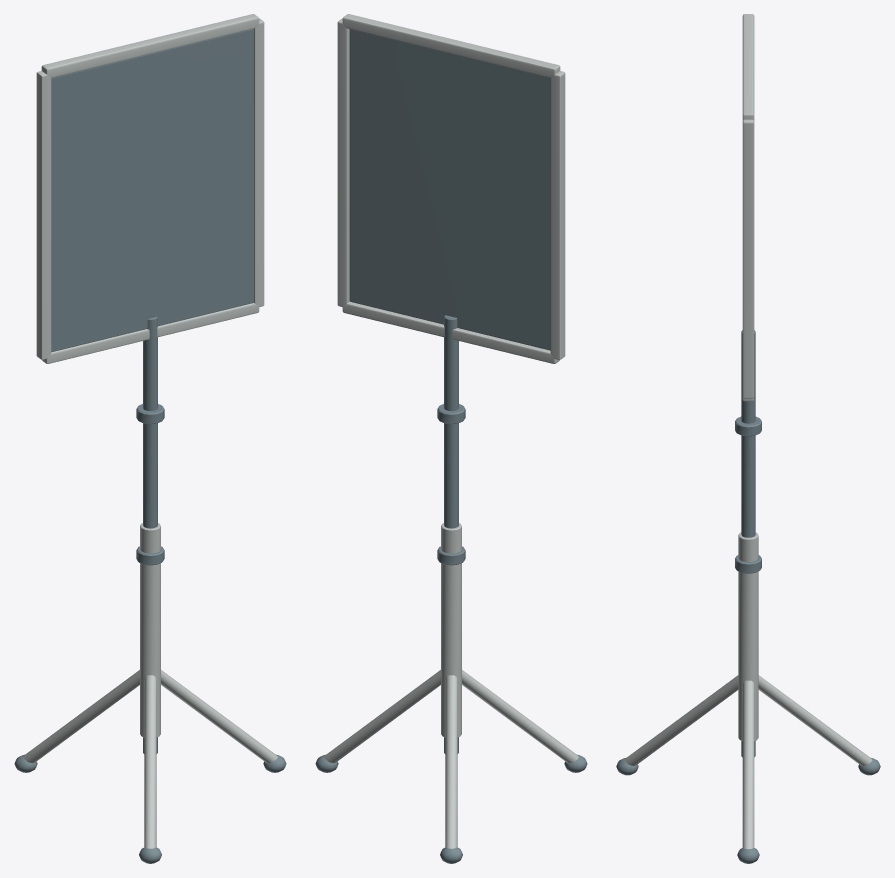
Rendered from flag-stand.glb.
3 renders of one model, left to right at view 1: azimuth 30°, elevation 25°; view 2: azimuth 150°, elevation 25°; view 3: azimuth 270°, elevation 25°, orthographic. The views are drawn at different scales.
Visible parts, largest first — view 1: light_cutting_fabric, flag_frame_side, lower_stand, flag_frame_rail.001, flag_frame_side.001, telescoping_stand, flag_frame_rail, tripod_leg_1, tripod_leg_0, tripod_leg_2; view 2: light_cutting_fabric, flag_frame_side, flag_frame_side.001, lower_stand, flag_frame_rail.001, telescoping_stand, flag_frame_rail, tripod_leg_2, tripod_leg_0, tripod_leg_1; view 3: flag_frame_side.001, lower_stand, telescoping_stand, tripod_leg_0, tripod_leg_1, tripod_leg_2, flag_frame_rail.001.
Part boxes in pixels (bbox=[...]): light_cutting_fabric: bbox=[51, 29, 253, 352]; flag_frame_side: bbox=[36, 71, 51, 359]; lower_stand: bbox=[140, 523, 160, 737]; flag_frame_rail.001: bbox=[41, 14, 259, 77]; flag_frame_side.001: bbox=[254, 18, 264, 306]; telescoping_stand: bbox=[143, 317, 157, 753]; flag_frame_rail: bbox=[42, 303, 259, 363]; tripod_leg_1: bbox=[144, 675, 156, 848]; tripod_leg_0: bbox=[160, 670, 277, 763]; tripod_leg_2: bbox=[23, 670, 140, 763]; light_cutting_fabric: bbox=[349, 29, 550, 350]; flag_frame_side: bbox=[550, 71, 565, 359]; flag_frame_side.001: bbox=[337, 18, 349, 306]; lower_stand: bbox=[441, 523, 461, 737]; flag_frame_rail.001: bbox=[342, 14, 560, 77]; telescoping_stand: bbox=[444, 315, 458, 753]; flag_frame_rail: bbox=[342, 301, 559, 363]; tripod_leg_2: bbox=[445, 675, 457, 848]; tripod_leg_0: bbox=[324, 670, 441, 763]; tripod_leg_1: bbox=[461, 670, 578, 763]; flag_frame_side.001: bbox=[742, 119, 754, 398]; lower_stand: bbox=[738, 532, 758, 740]; telescoping_stand: bbox=[741, 330, 755, 757]; tripod_leg_0: bbox=[742, 680, 754, 849]; tripod_leg_1: bbox=[624, 675, 738, 765]; tripod_leg_2: bbox=[758, 675, 872, 765]; flag_frame_rail.001: bbox=[742, 14, 754, 119].
Bounding box in the file's own units: 0.8315 × 2.45 × 0.7955.
